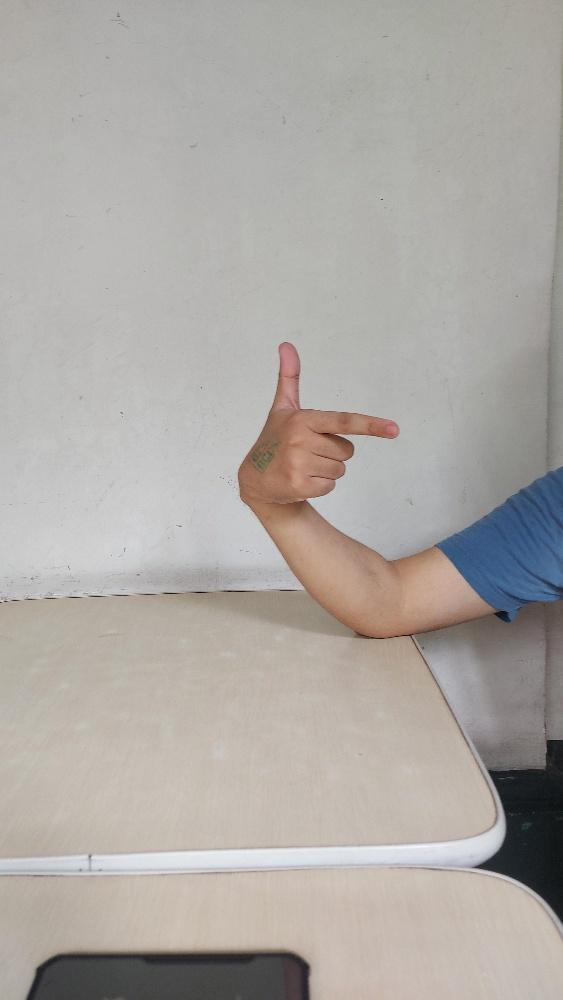g: (236, 340, 398, 504)
